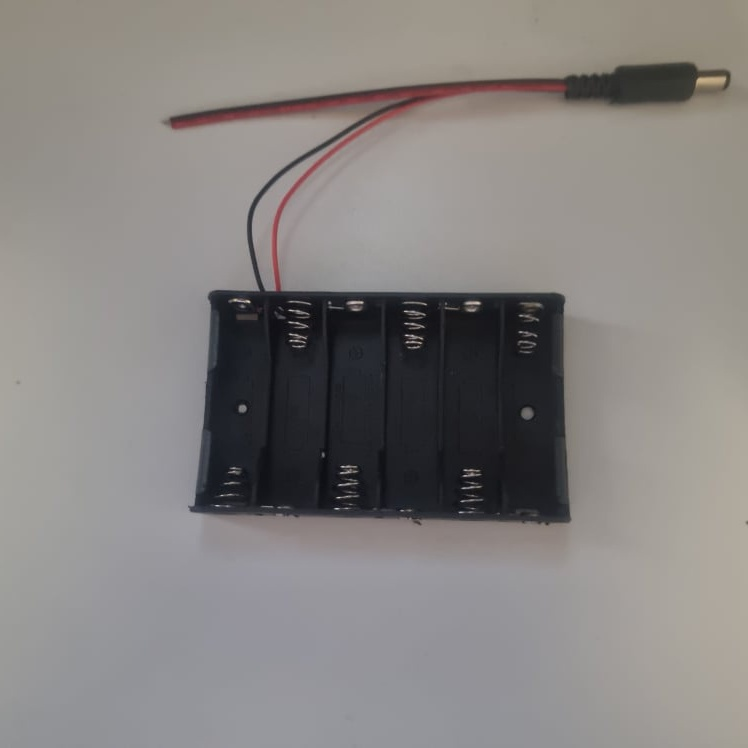BATTERY BOX: (188, 290, 573, 526)
